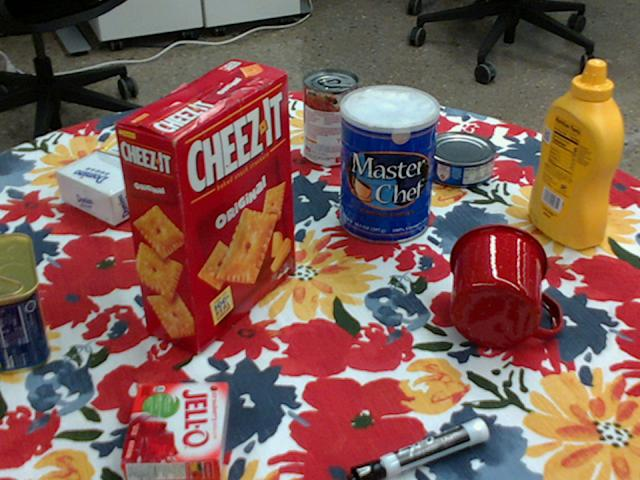cracker_box: (110, 59, 290, 352)
gelatin_box: (124, 382, 229, 479)
large_marker: (349, 417, 490, 479)
master_chef_can: (340, 85, 439, 245)
mug: (448, 223, 561, 348)
mustard_bottle: (526, 61, 621, 249)
potted_meat_can: (0, 232, 49, 371)
sugar_box: (54, 118, 221, 226)
tomato_soup_can: (302, 69, 358, 167)
tuna_fish_can: (425, 133, 497, 188)
